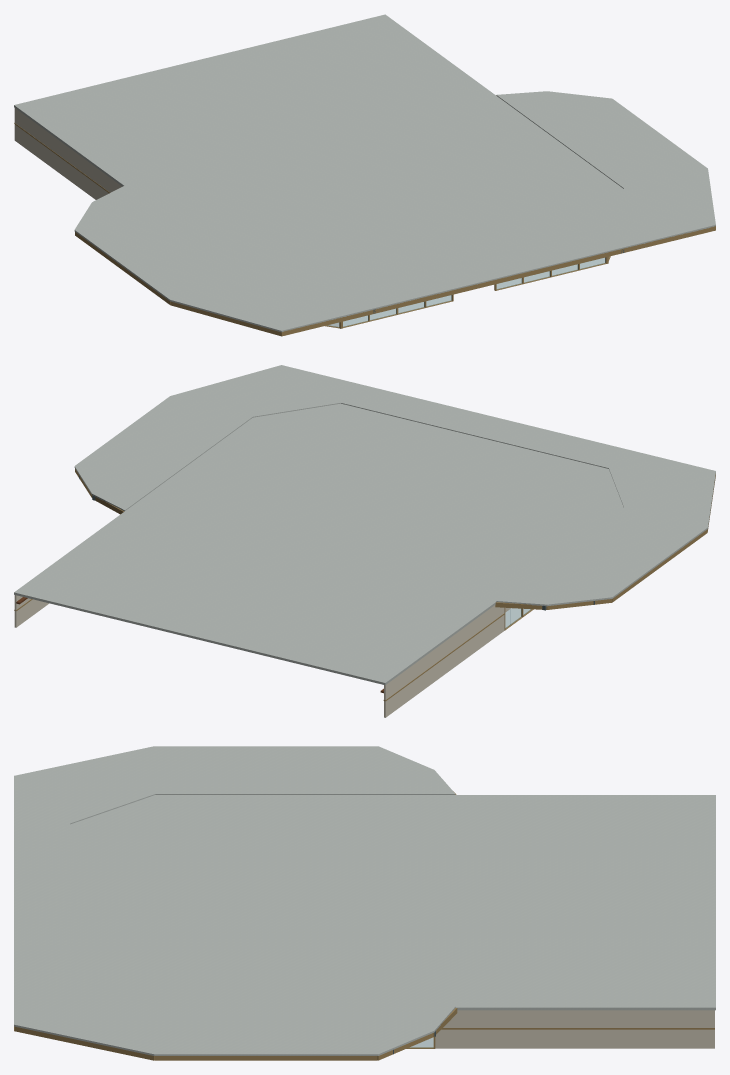
The model's file is AST-CMD-006.glb.
3 views of the same model, one above another, from view 1: azimuth 30°, elevation 25°; view 2: azimuth 150°, elevation 25°; view 3: azimuth 270°, elevation 25° (orthographic). The views are drawn at different scales.
Parts seen in each view (by area): view 1: UHE_CELL_X4_Y14_Z18_ASTRAEA_staff_white_paint, UHE_CELL_X4_Y14_Z19_ASTRAEA_staff_white_paint, UHE_CELL_X4_Y14_Z21_ASTRAEA_staff_white_paint, UHE_CELL_X4_Y14_Z20_ASTRAEA_staff_white_paint, UHE_CELL_X4_Y14_Z22_ASTRAEA_staff_white_paint, UHE_CELL_X-6_Y14_Z23_ASTRAEA_staff_white_paint, UHE_CELL_X-4_Y14_Z20_ASTRAEA_staff_white_paint, UHE_CELL_X1_Y14_Z20_ASTRAEA_staff_white_paint, UHE_CELL_X2_Y14_Z13_ASTRAEA_staff_white_paint, UHE_CELL_X2_Y14_Z17_ASTRAEA_staff_white_paint, UHE_CELL_X5_Y14_Z21_ASTRAEA_staff_white_paint, UHE_CELL_X-6_Y14_Z20_ASTRAEA_staff_white_paint (+127 smaller); view 2: UHE_CELL_X-2_Y14_Z24_ASTRAEA_staff_white_paint, UHE_CELL_X0_Y14_Z24_ASTRAEA_staff_white_paint, UHE_CELL_X-3_Y14_Z24_ASTRAEA_staff_white_paint, UHE_CELL_X-1_Y14_Z24_ASTRAEA_staff_white_paint, UHE_CELL_X2_Y14_Z24_ASTRAEA_staff_white_paint, UHE_CELL_X1_Y14_Z24_ASTRAEA_staff_white_paint, UHE_CELL_X3_Y14_Z23_ASTRAEA_staff_white_paint, UHE_CELL_X4_Y14_Z22_ASTRAEA_staff_white_paint, UHE_CELL_X4_Y14_Z19_ASTRAEA_staff_white_paint, UHE_CELL_X3_Y14_Z24_ASTRAEA_staff_white_paint, UHE_CELL_X4_Y14_Z21_ASTRAEA_staff_white_paint, UHE_CELL_X4_Y14_Z18_ASTRAEA_staff_white_paint (+118 smaller); view 3: UHE_CELL_X-5_Y14_Z18_ASTRAEA_staff_white_paint, UHE_CELL_X4_Y13_Z13_ASTRAEA_ivory_enamel, UHE_CELL_X4_Y13_Z14_ASTRAEA_ivory_enamel, UHE_CELL_X4_Y13_Z15_ASTRAEA_ivory_enamel, UHE_CELL_X4_Y13_Z16_ASTRAEA_ivory_enamel, UHE_CELL_X-5_Y14_Z19_ASTRAEA_staff_white_paint, UHE_CELL_X-5_Y14_Z20_ASTRAEA_staff_white_paint, UHE_CELL_X-5_Y14_Z21_ASTRAEA_staff_white_paint, UHE_CELL_X-5_Y14_Z22_ASTRAEA_staff_white_paint, UHE_CELL_X-2_Y14_Z18_ASTRAEA_staff_white_paint, UHE_CELL_X-1_Y14_Z18_ASTRAEA_staff_white_paint, UHE_CELL_X2_Y14_Z18_ASTRAEA_staff_white_paint (+139 smaller).
Boxes of the visible parts, x1,y1,x2,y2 form: UHE_CELL_X4_Y14_Z18_ASTRAEA_staff_white_paint: (491,100,555,128); UHE_CELL_X4_Y14_Z19_ASTRAEA_staff_white_paint: (515,118,579,146); UHE_CELL_X4_Y14_Z21_ASTRAEA_staff_white_paint: (563,153,627,181); UHE_CELL_X4_Y14_Z20_ASTRAEA_staff_white_paint: (539,135,603,163); UHE_CELL_X4_Y14_Z22_ASTRAEA_staff_white_paint: (587,170,651,198); UHE_CELL_X-6_Y14_Z23_ASTRAEA_staff_white_paint: (197,289,261,316); UHE_CELL_X-4_Y14_Z20_ASTRAEA_staff_white_paint: (208,217,272,244); UHE_CELL_X1_Y14_Z20_ASTRAEA_staff_white_paint: (415,166,479,194); UHE_CELL_X2_Y14_Z13_ASTRAEA_staff_white_paint: (289,34,353,61); UHE_CELL_X2_Y14_Z17_ASTRAEA_staff_white_paint: (384,104,449,131); UHE_CELL_X5_Y14_Z21_ASTRAEA_staff_white_paint: (604,143,668,170); UHE_CELL_X-6_Y14_Z20_ASTRAEA_staff_white_paint: (125,236,189,263); UHE_CELL_X-2_Y14_Z24_ASTRAEA_staff_white_paint: (510,432,575,460); UHE_CELL_X0_Y14_Z24_ASTRAEA_staff_white_paint: (428,412,492,440); UHE_CELL_X-3_Y14_Z24_ASTRAEA_staff_white_paint: (552,442,616,470); UHE_CELL_X-1_Y14_Z24_ASTRAEA_staff_white_paint: (469,422,533,450); UHE_CELL_X2_Y14_Z24_ASTRAEA_staff_white_paint: (345,392,409,420); UHE_CELL_X1_Y14_Z24_ASTRAEA_staff_white_paint: (386,402,450,430); UHE_CELL_X3_Y14_Z23_ASTRAEA_staff_white_paint: (280,399,344,427); UHE_CELL_X4_Y14_Z22_ASTRAEA_staff_white_paint: (214,407,278,434); UHE_CELL_X4_Y14_Z19_ASTRAEA_staff_white_paint: (143,459,207,487); UHE_CELL_X3_Y14_Z24_ASTRAEA_staff_white_paint: (303,382,368,410); UHE_CELL_X4_Y14_Z21_ASTRAEA_staff_white_paint: (190,424,255,452); UHE_CELL_X4_Y14_Z18_ASTRAEA_staff_white_paint: (119,477,183,504); UHE_CELL_X-5_Y14_Z18_ASTRAEA_staff_white_paint: (364,781,420,806); UHE_CELL_X4_Y13_Z13_ASTRAEA_ivory_enamel: (644,1022,700,1048); UHE_CELL_X4_Y13_Z14_ASTRAEA_ivory_enamel: (588,1022,644,1048); UHE_CELL_X4_Y13_Z15_ASTRAEA_ivory_enamel: (532,1022,588,1048); UHE_CELL_X4_Y13_Z16_ASTRAEA_ivory_enamel: (476,1022,532,1048); UHE_CELL_X-5_Y14_Z19_ASTRAEA_staff_white_paint: (308,781,364,806); UHE_CELL_X-5_Y14_Z20_ASTRAEA_staff_white_paint: (252,781,308,806); UHE_CELL_X-5_Y14_Z21_ASTRAEA_staff_white_paint: (196,781,252,806); UHE_CELL_X-5_Y14_Z22_ASTRAEA_staff_white_paint: (140,781,196,806); UHE_CELL_X-2_Y14_Z18_ASTRAEA_staff_white_paint: (364,853,420,877); UHE_CELL_X-1_Y14_Z18_ASTRAEA_staff_white_paint: (364,877,420,901); UHE_CELL_X2_Y14_Z18_ASTRAEA_staff_white_paint: (364,948,420,972).
Bounding box in the file's own units: 104 × 7.09 × 100.
7 materials, 6 textured.
